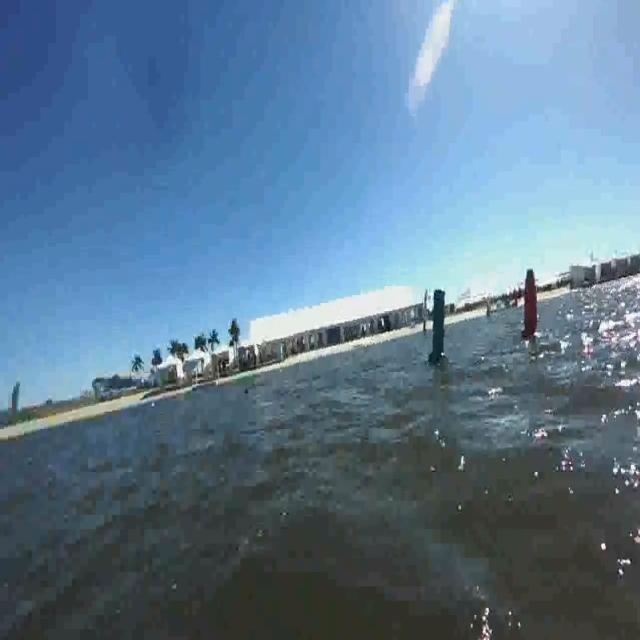green-column-buoy: (429, 288, 448, 367)
red-column-buoy: (520, 268, 540, 341)
